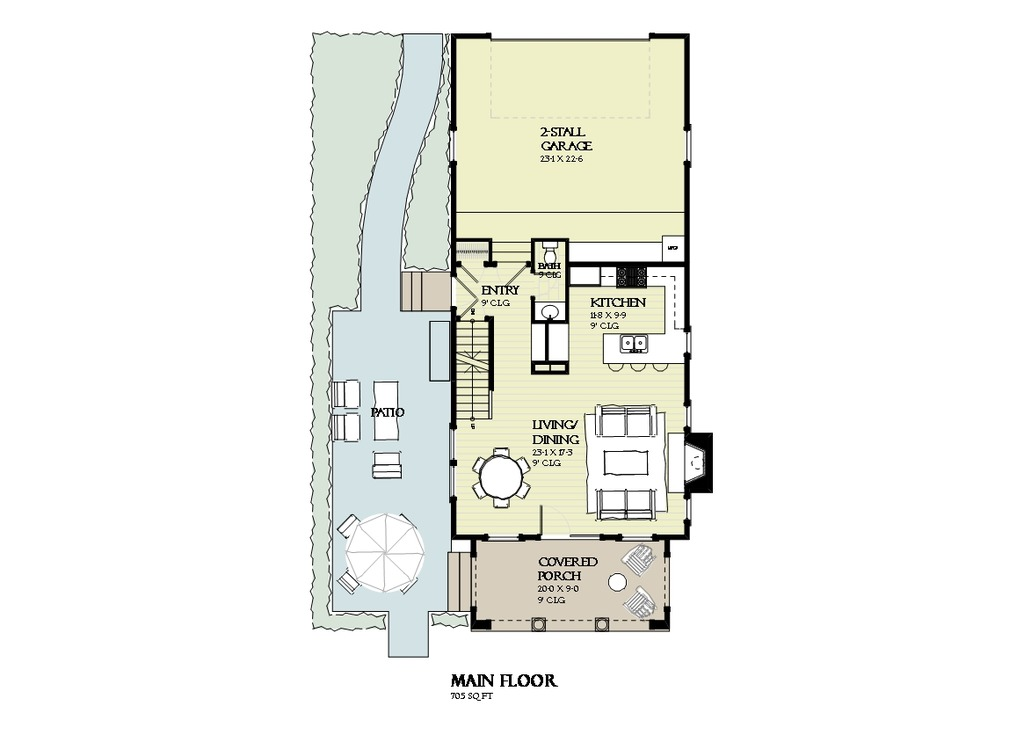large_sink: (536, 240, 570, 260)
large_sofa: (593, 399, 662, 440), (596, 487, 661, 520)
round_table: (467, 442, 537, 505)
small_sink: (531, 302, 567, 321)
stairs: (452, 314, 496, 427)
twin_sink: (618, 335, 649, 352)
windows: (682, 120, 695, 167), (449, 127, 460, 164)
